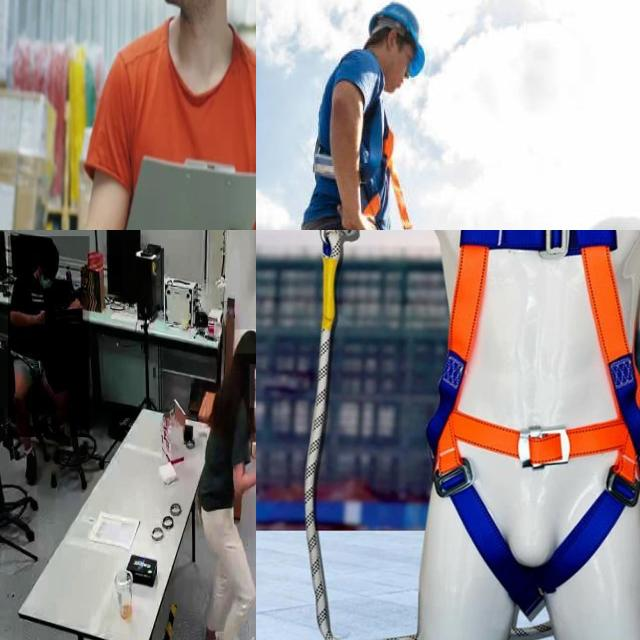Harness: (424, 230, 640, 619), (305, 57, 411, 230)
face_mask: (35, 264, 57, 294), (249, 364, 256, 407)
hand_noglove: (34, 307, 48, 328)
head_nohelmet: (234, 329, 256, 354)
person: (193, 327, 256, 640), (8, 236, 90, 438)
